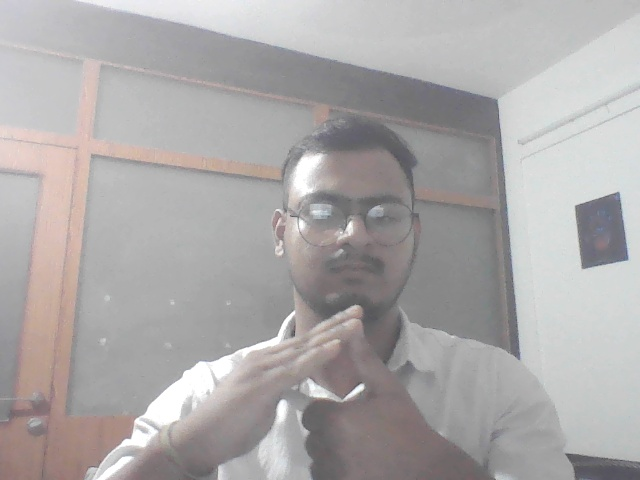I Feel You: (221, 304, 416, 480)
